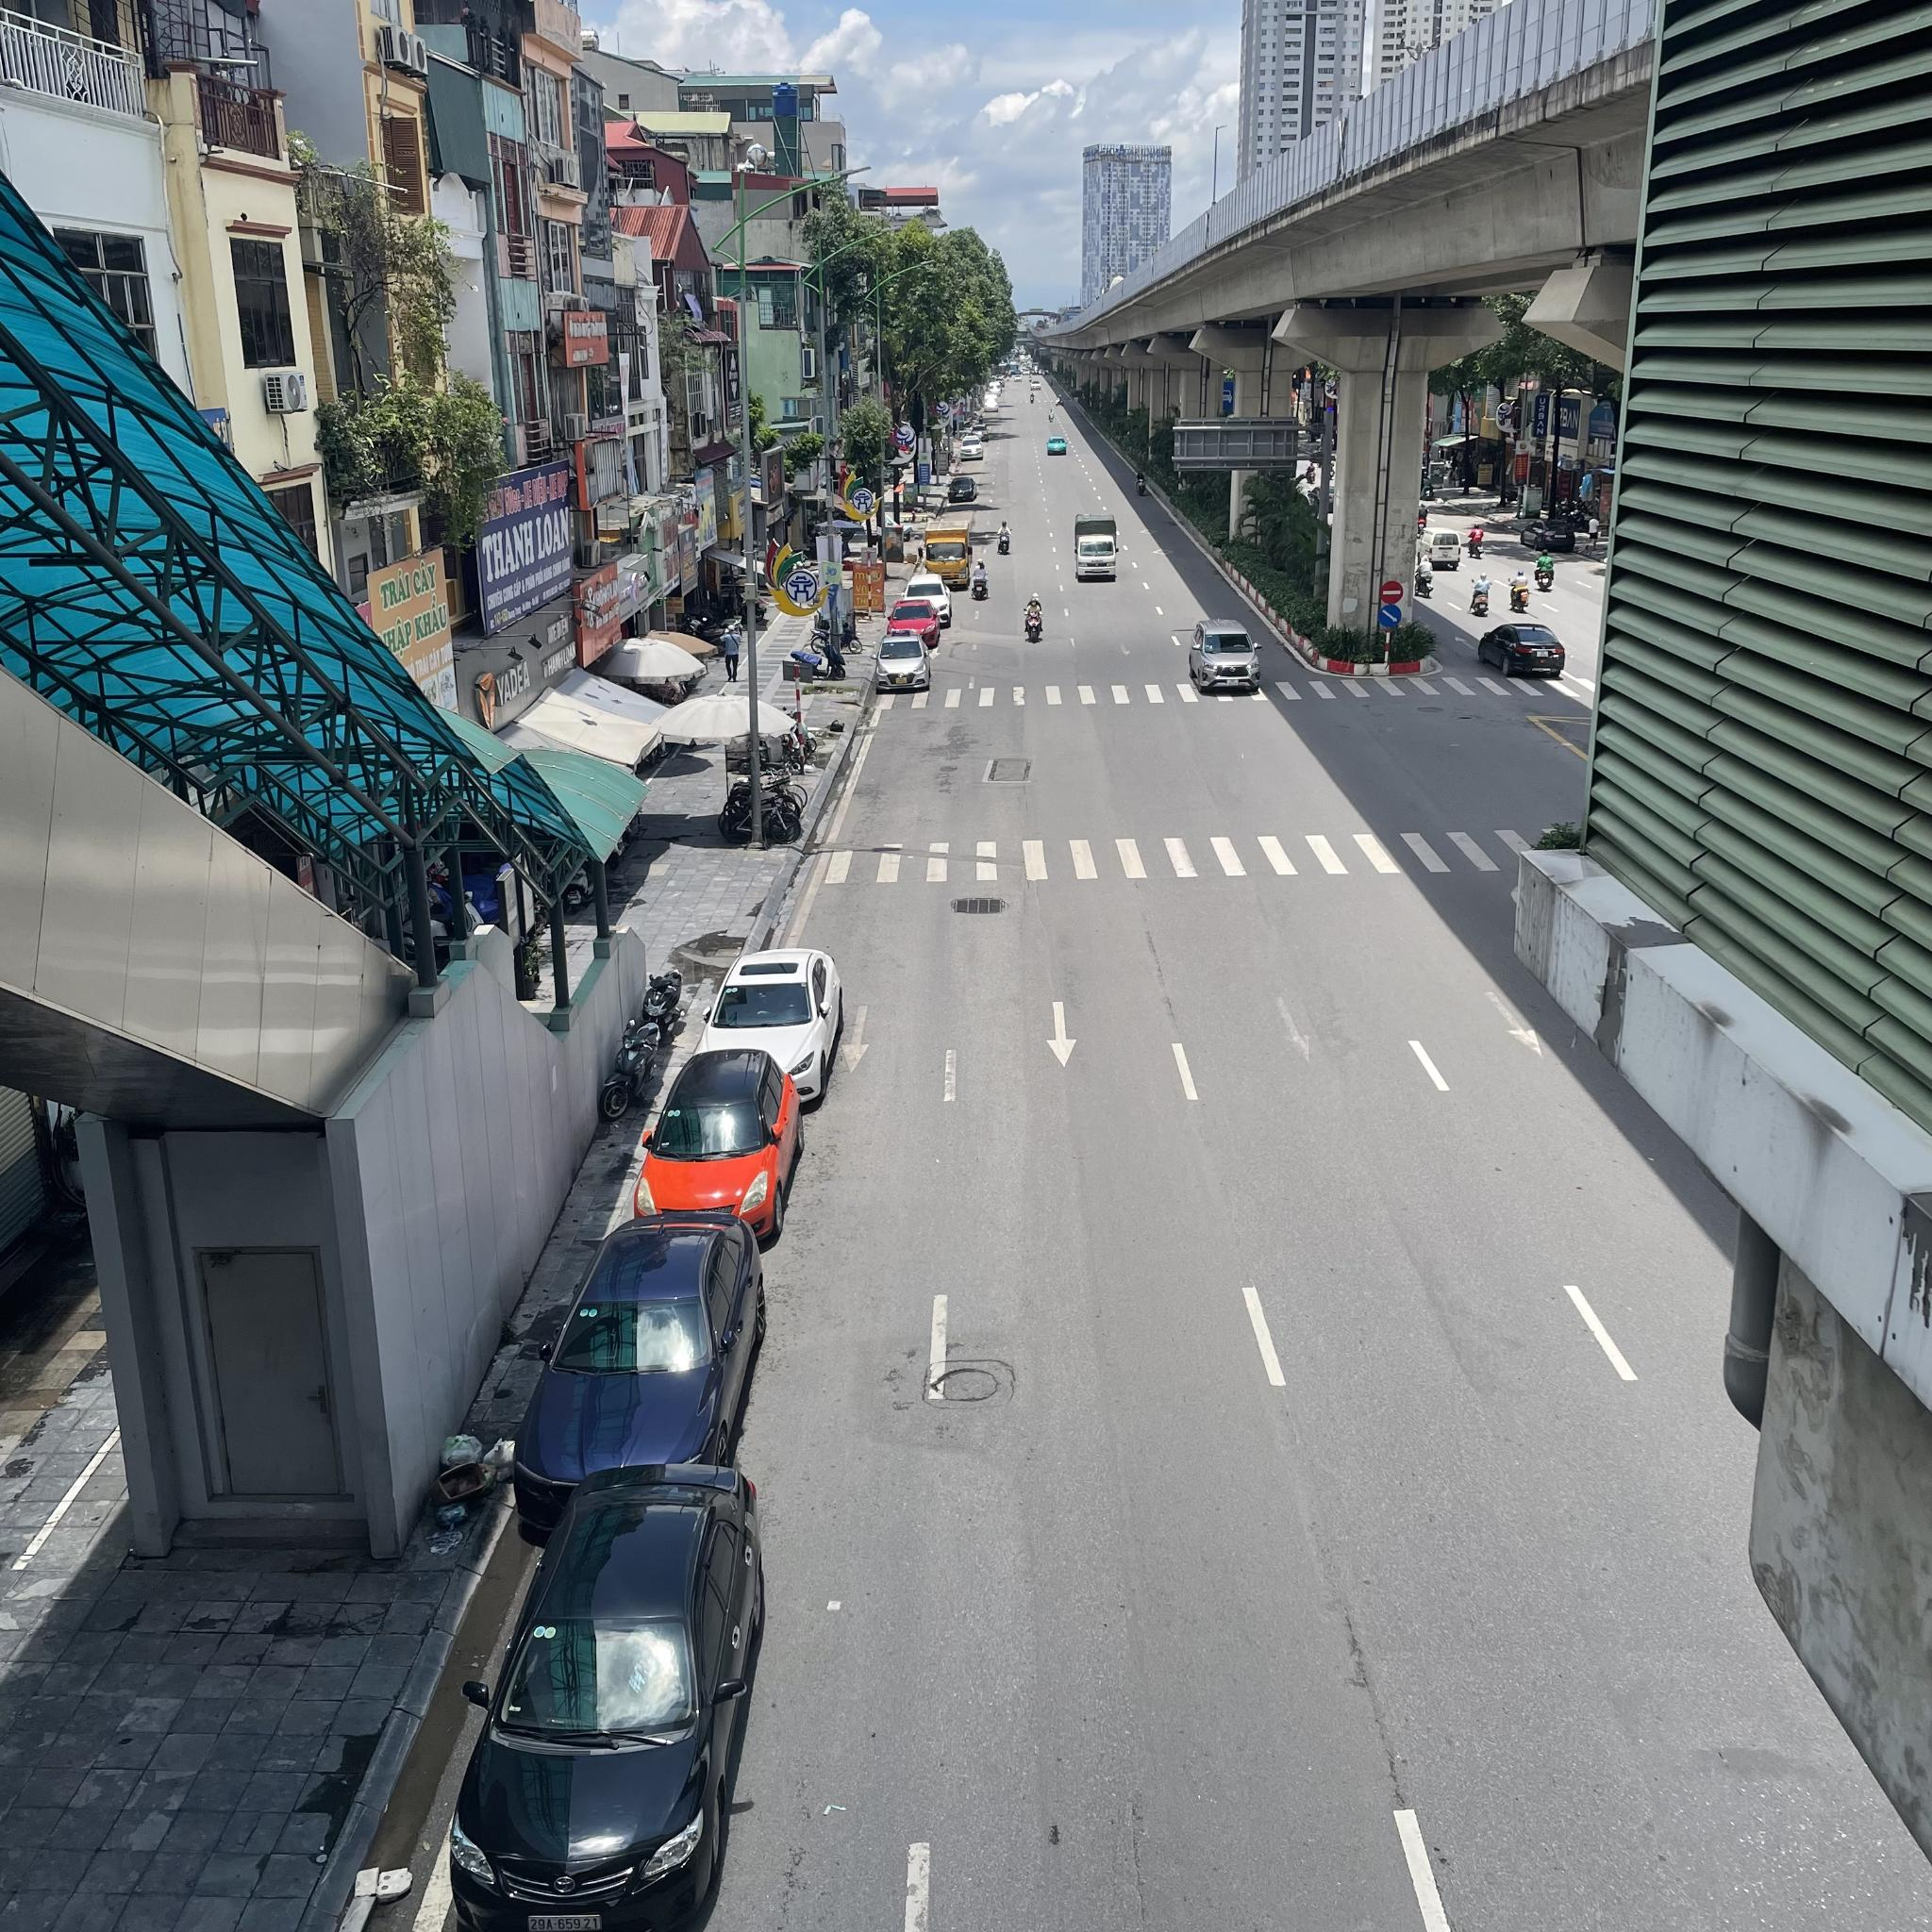car: (453, 1470, 807, 1916), (488, 1215, 773, 1518), (642, 1056, 812, 1261), (699, 939, 833, 1100), (1182, 623, 1283, 701), (1072, 513, 1123, 582), (925, 522, 968, 587), (876, 633, 927, 686), (904, 575, 954, 626), (888, 602, 941, 644), (947, 479, 977, 499)
motobike: (1019, 591, 1051, 640), (971, 561, 989, 598), (998, 522, 1010, 552), (1134, 471, 1146, 494)
